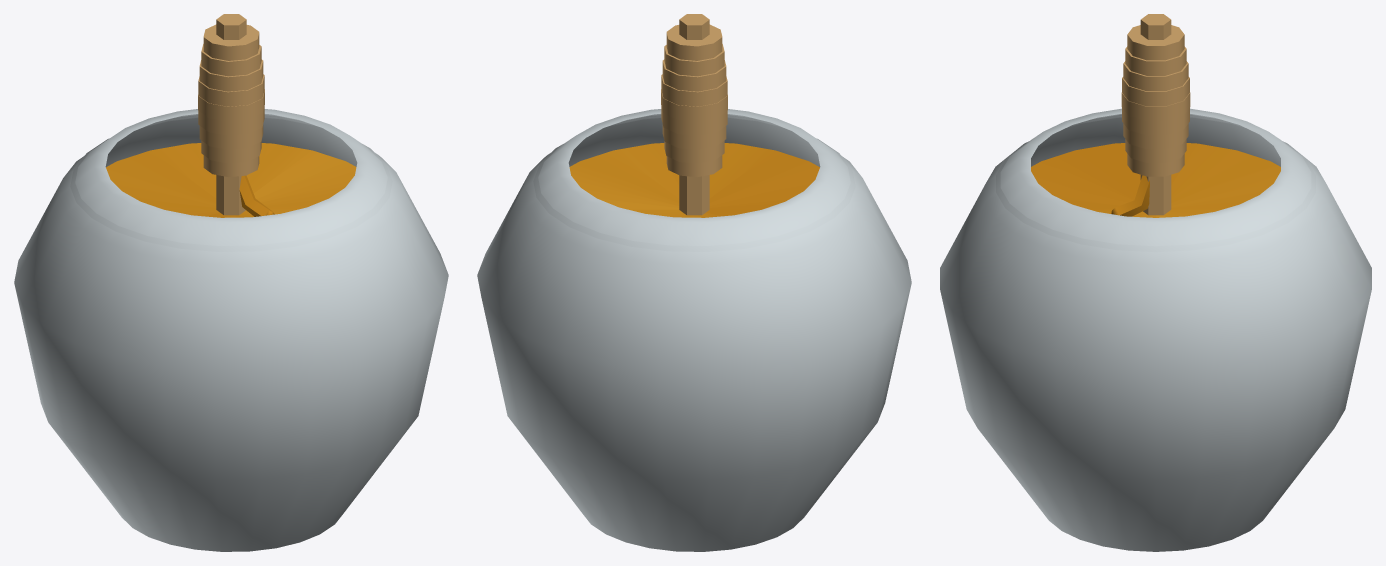
The model's file is deli_honey_pot_dipper.glb.
The picture shows the model from 3 angles, left to right: view 1: azimuth 30°, elevation 25°; view 2: azimuth 150°, elevation 25°; view 3: azimuth 270°, elevation 25°; orthographic projection.
Parts seen in each view (by area): view 1: deli_honey_pot_dipper; view 2: deli_honey_pot_dipper; view 3: deli_honey_pot_dipper.
Boxes of the visible parts, x1,y1,x2,y2 form: deli_honey_pot_dipper: (14,14,448,551); deli_honey_pot_dipper: (477,14,911,551); deli_honey_pot_dipper: (940,14,1371,551).
Size of the model in its own units: 0.114 by 0.14 by 0.1132.
Materials: 3 (1 with a texture image).
